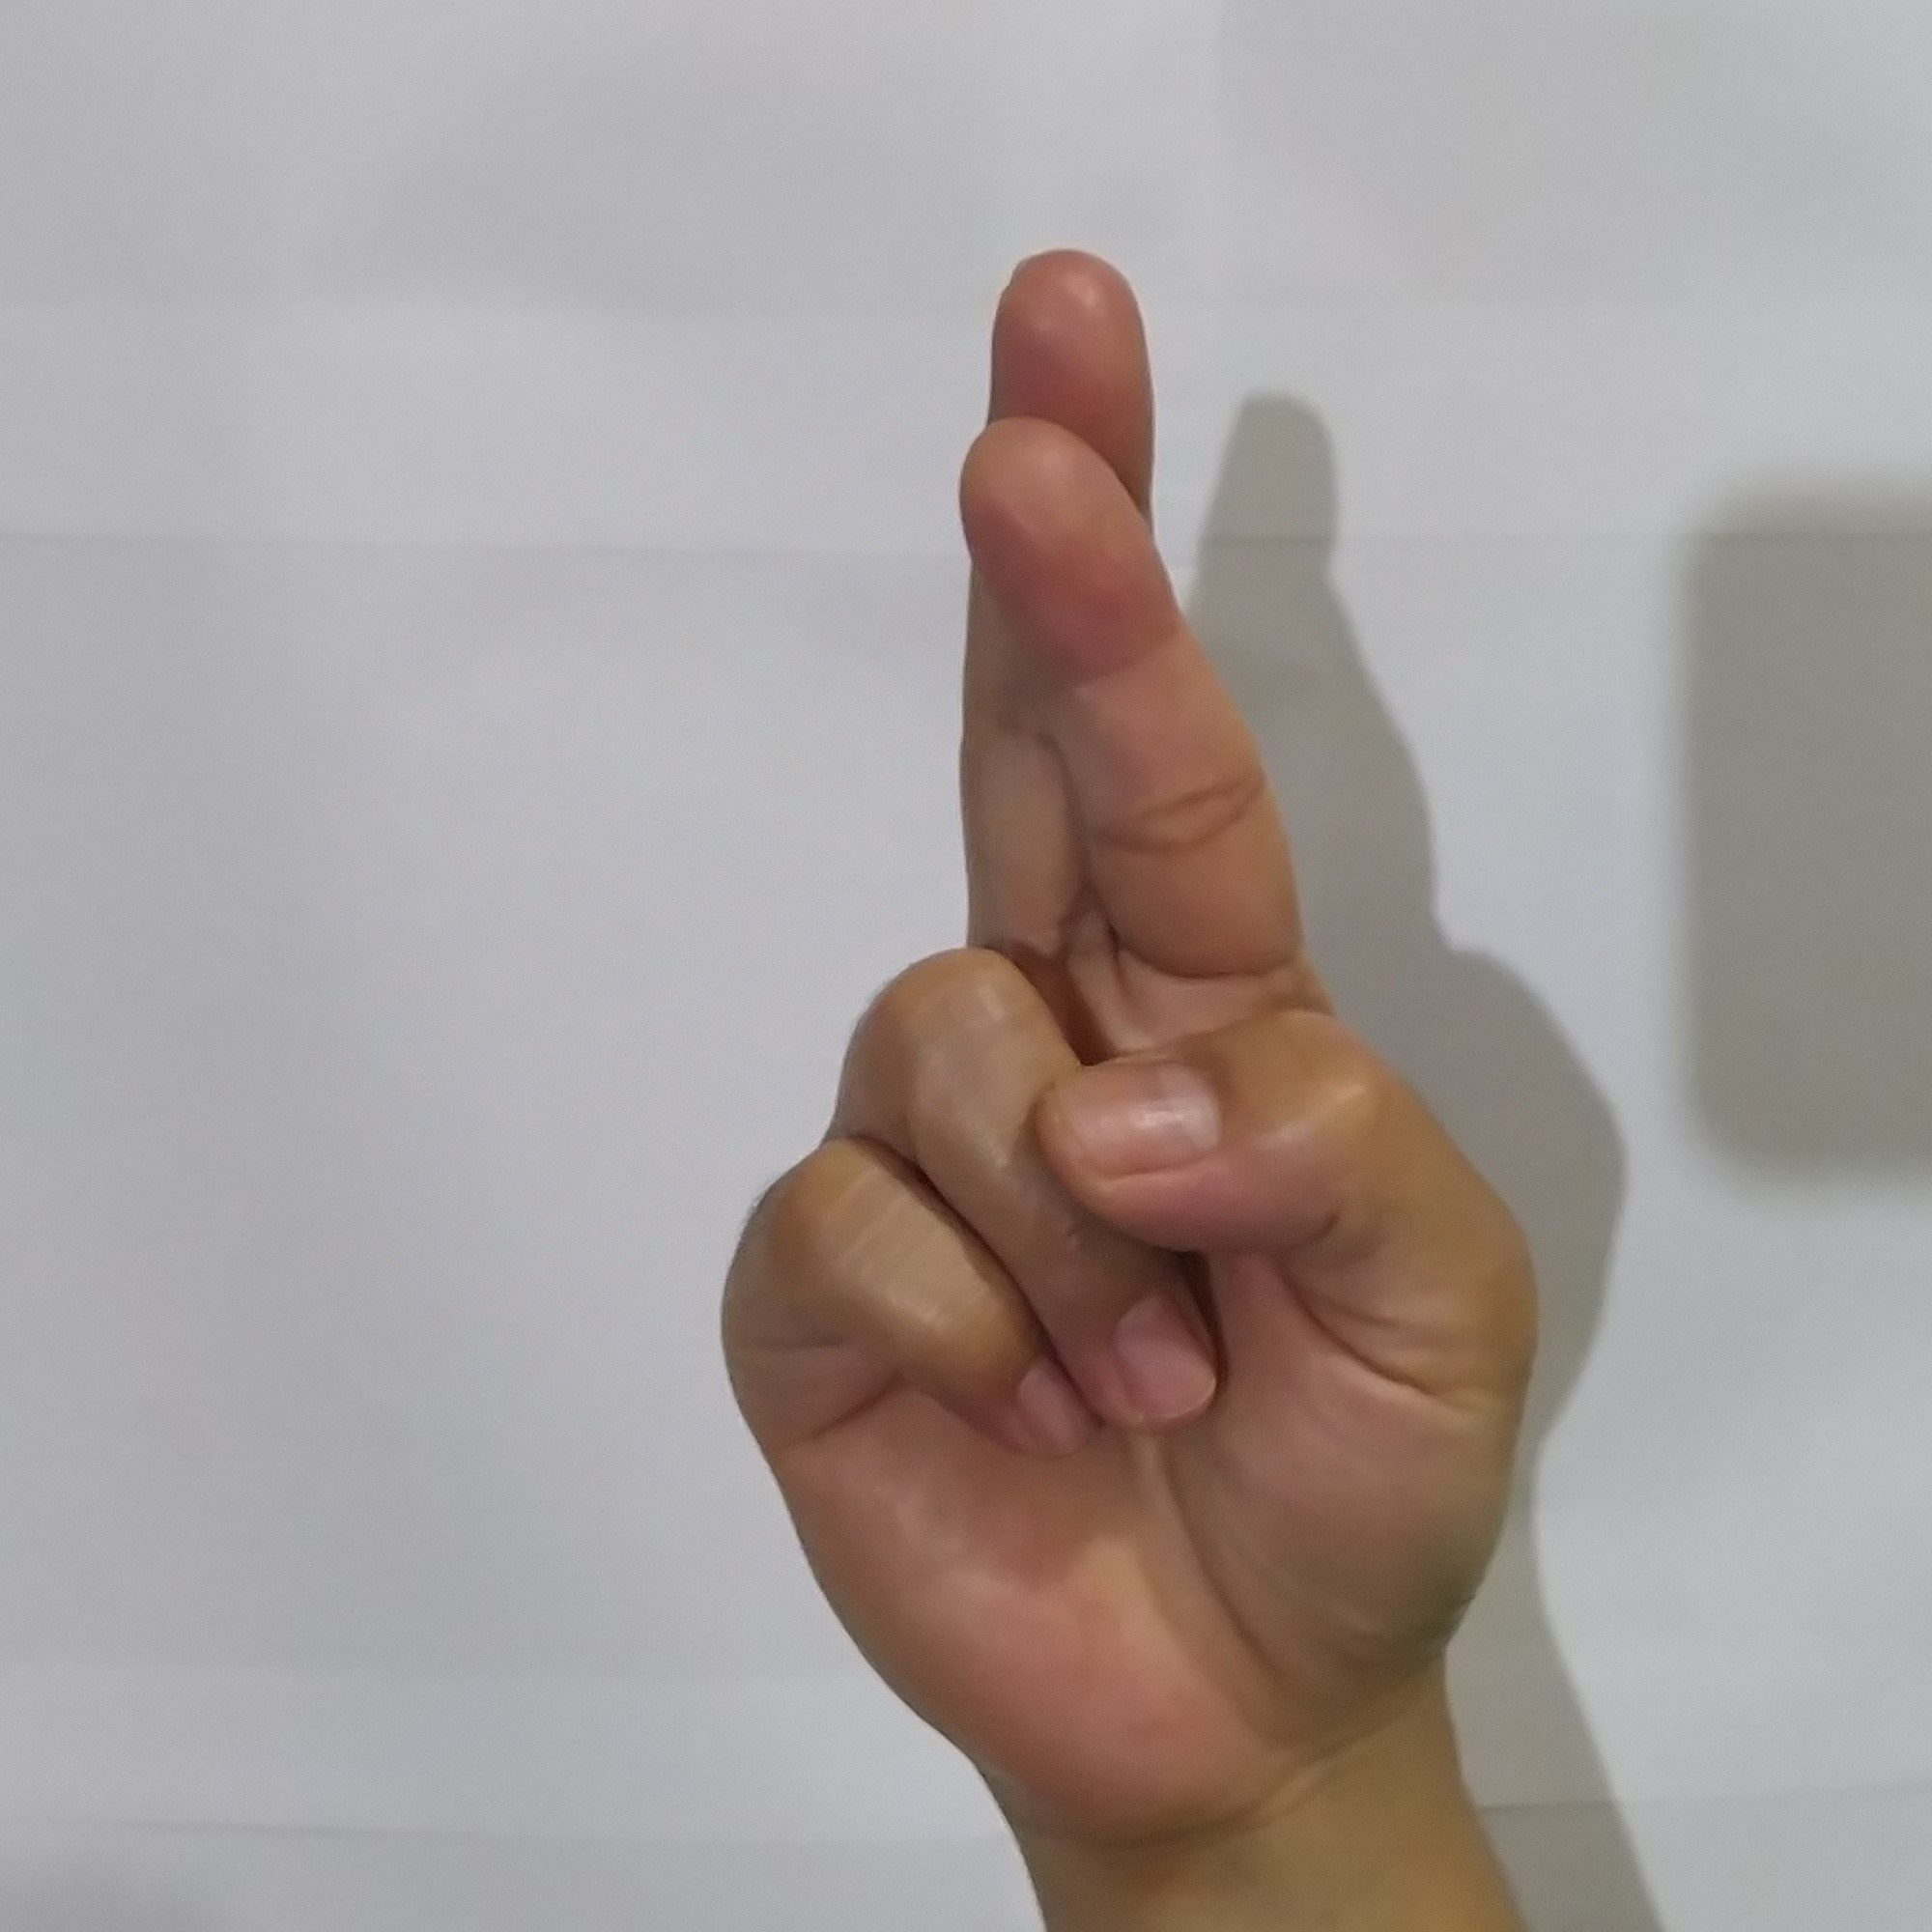R: (690, 223, 1564, 1789)
